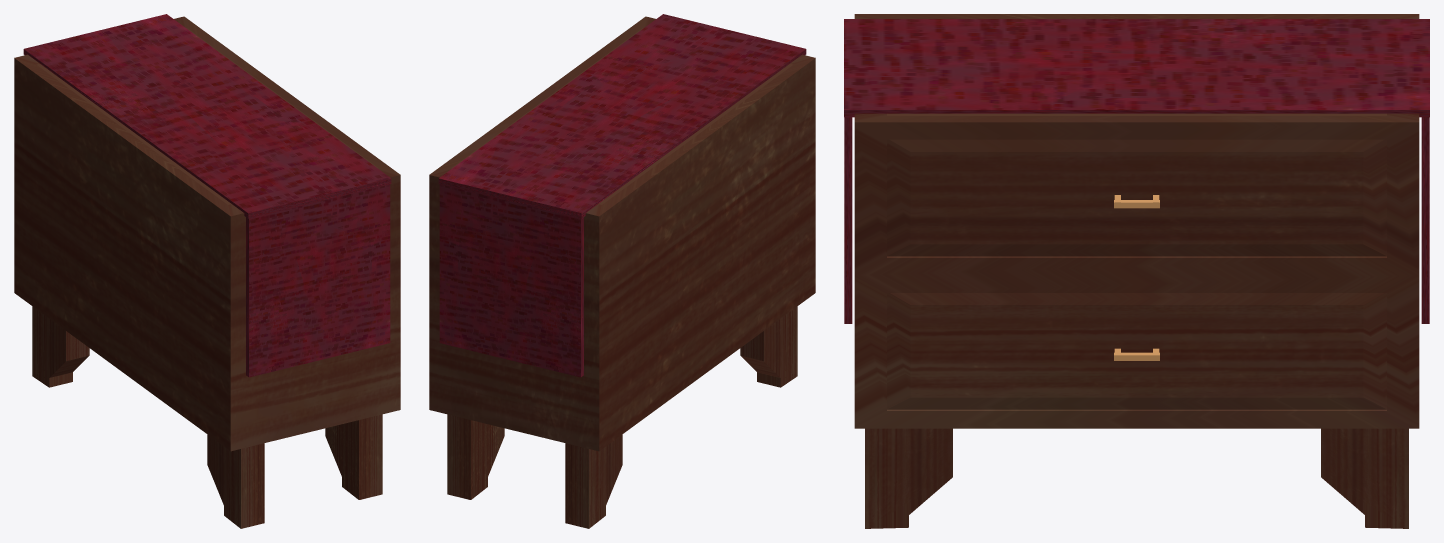
Rendered from evreything.fbx_Collection_2.fbx.
The picture shows the model from 3 angles, left to right: view 1: azimuth 30°, elevation 25°; view 2: azimuth 150°, elevation 25°; view 3: azimuth 270°, elevation 25°; orthographic projection. The views are drawn at different scales.
Parts seen in each view (by area): view 1: Cube.003, Cube.006, Cube.007, Cube.004; view 2: Cube.003, Cube.006, Cube.007, Cube.004; view 3: Cube.003, Cube.006, Cube.004, Cube.007, Cube.005.
Boxes of the visible parts, x1,y1,x2,y2 form: Cube.003: [14, 16, 400, 451]; Cube.006: [23, 14, 391, 218]; Cube.007: [246, 184, 390, 377]; Cube.004: [32, 306, 382, 528]; Cube.003: [429, 16, 815, 451]; Cube.006: [438, 14, 806, 218]; Cube.007: [439, 184, 583, 377]; Cube.004: [447, 306, 797, 528]; Cube.003: [854, 14, 1419, 428]; Cube.006: [844, 19, 1429, 117]; Cube.004: [865, 428, 1408, 528]; Cube.007: [844, 117, 1429, 323]; Cube.005: [1114, 195, 1159, 360].
Bounding box in the file's own units: 321 × 253 × 148.
Materials: 3 (2 with a texture image).
